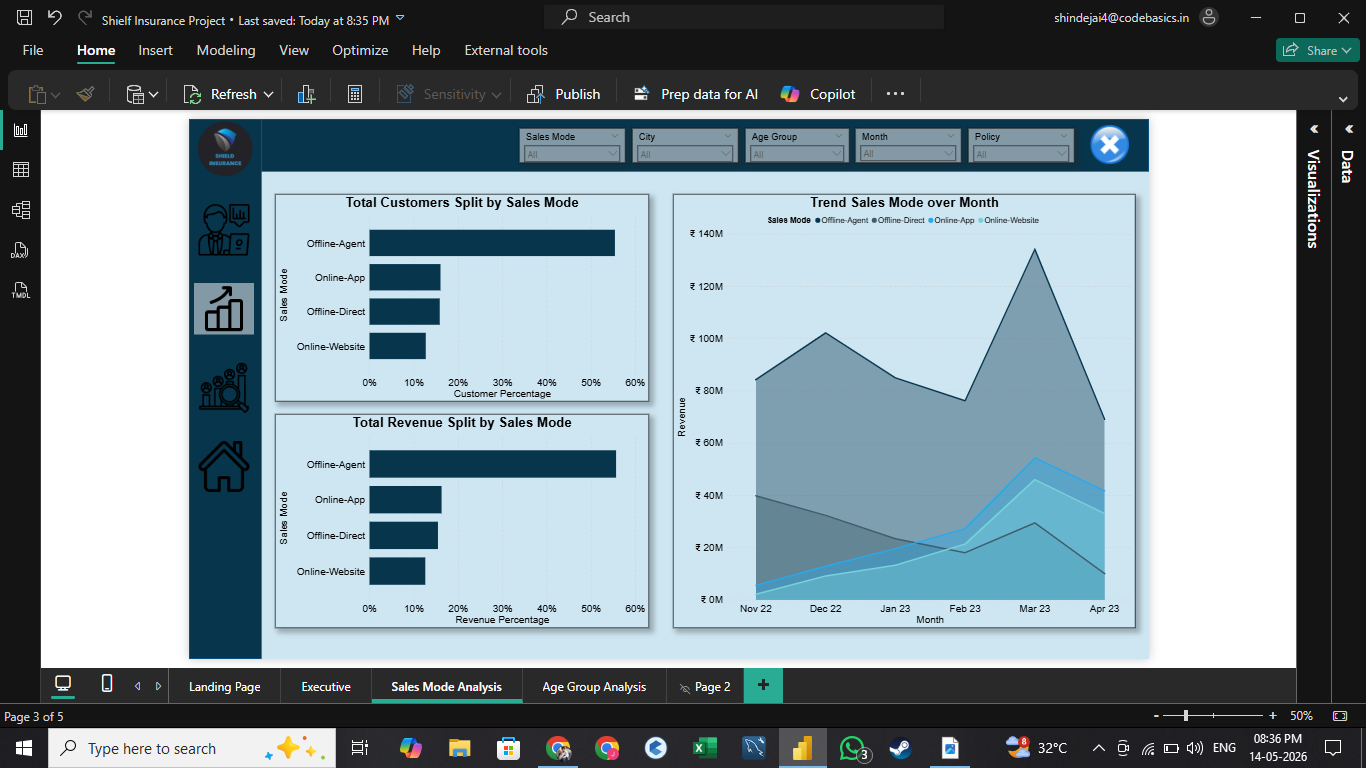

Layout of this report page (visuals, bound fields, positions):
{"tool":"powerbi","page":{"name":"Sales Mode Analysis","canvas":[1920,1080],"ordinal":2},"visuals":[{"type":"shape","box":[0,0,1920,105],"z":0},{"type":"image","box":[1790,12.5,102.5,77.5],"z":2000},{"type":"shape","box":[0,0,145,1080],"z":4000},{"type":"image","box":[9.6,484.8,120,102.5],"z":5000},{"type":"image","box":[9.6,642.4,120,102.5],"z":6000},{"type":"image","box":[9.6,327.1,120,102.5],"z":7000},{"type":"image","box":[0,0,145.3,119.3],"z":9000},{"type":"areaChart","title":"Trend Sales Mode over Month","fields":{"Y":["Key Measures.Total Revenue"],"Series":["fact_premiums.sales_mode"],"Category":["dim_date.mm_yy","dim_date.date"]},"box":[967.5,150,925,867.5],"z":10000},{"type":"barChart","title":"Total Customers Split by Sales Mode","fields":{"Category":["fact_premiums.sales_mode"],"Y":["Divide(Key Measures.Total Customers, ScopedEval(Key Measures.Total Customers, []))"]},"box":[172.5,150,747.5,415],"z":11000},{"type":"barChart","title":"Total Revenue Split by Sales Mode","fields":{"Category":["fact_premiums.sales_mode"],"Y":["Divide(Key Measures.Total Revenue, ScopedEval(Key Measures.Total Revenue, []))"]},"box":[172.5,590,747.5,427.5],"z":12000},{"type":"image","box":[13.6,176,112,96],"z":13000}]}

Visuals, with their boxes on the page's 1920x1080 design canvas (x1, y1, x2, y2). These are canvas units, not pixel positions in the 1366x768 screenshot, which may show the page scaled, cropped or inside an application window:
shape: <bbox>0, 0, 1920, 105</bbox>
image: <bbox>1790, 12, 1892, 90</bbox>
shape: <bbox>0, 0, 145, 1080</bbox>
image: <bbox>10, 485, 130, 587</bbox>
image: <bbox>10, 642, 130, 745</bbox>
image: <bbox>10, 327, 130, 430</bbox>
image: <bbox>0, 0, 145, 119</bbox>
"Trend Sales Mode over Month" areaChart: <bbox>968, 150, 1892, 1018</bbox>
"Total Customers Split by Sales Mode" barChart: <bbox>172, 150, 920, 565</bbox>
"Total Revenue Split by Sales Mode" barChart: <bbox>172, 590, 920, 1018</bbox>
image: <bbox>14, 176, 126, 272</bbox>
